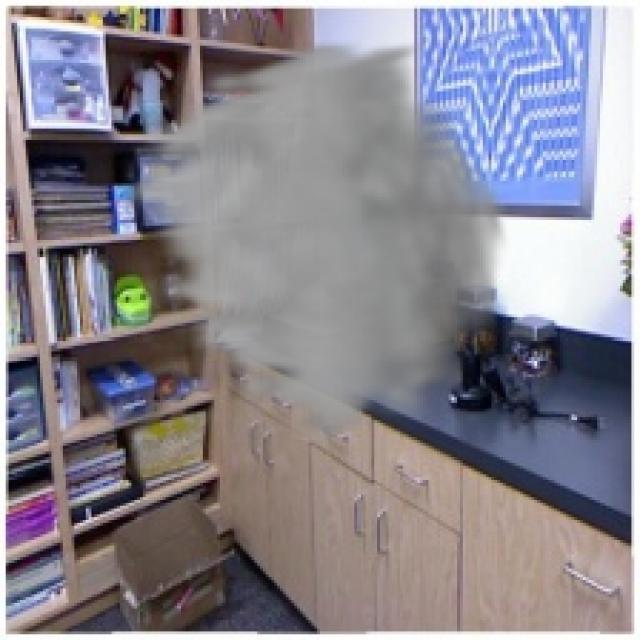Smoke: (108, 37, 514, 443)
